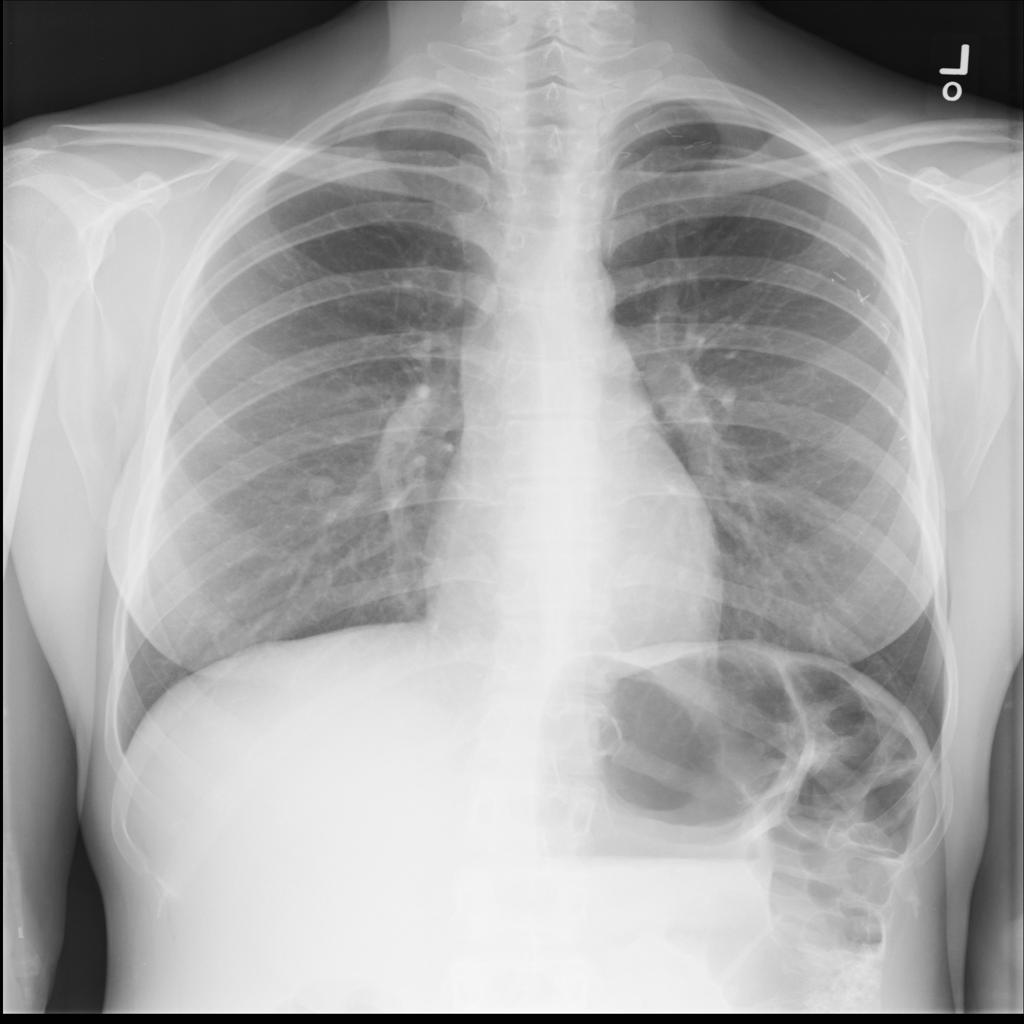nodule: (292, 465, 348, 509)
